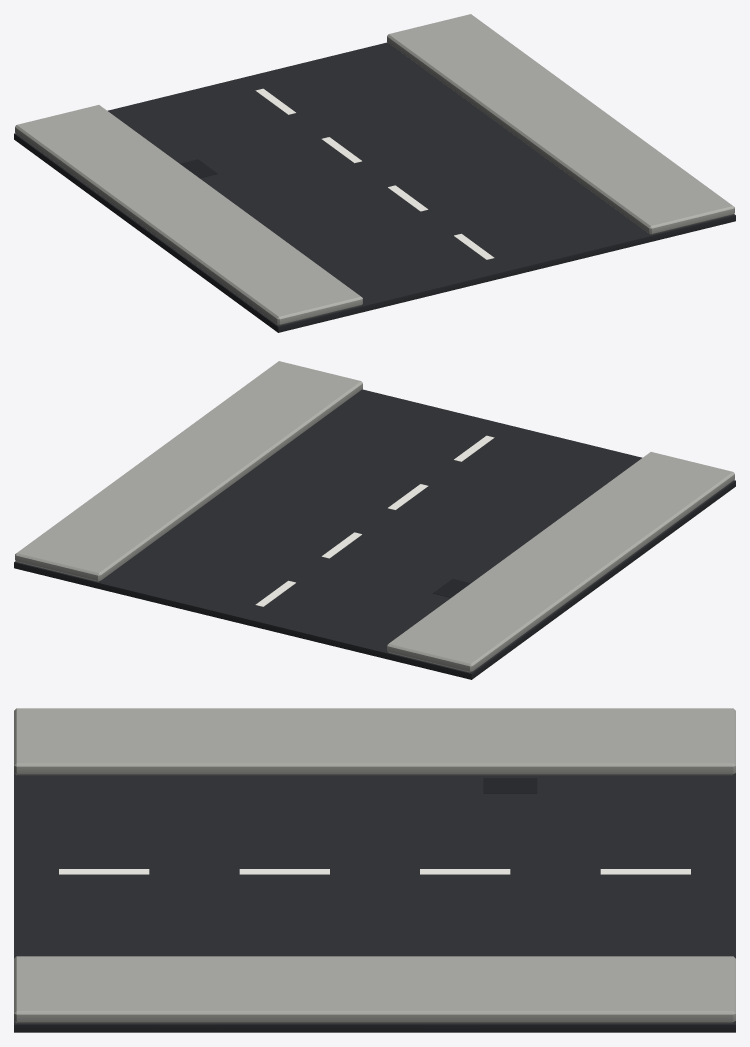
Rendered from road_straight_01.glb.
The picture shows the model from 3 angles, top to bottom: view 1: azimuth 30°, elevation 25°; view 2: azimuth 150°, elevation 25°; view 3: azimuth 270°, elevation 25°; orthographic projection. The views are drawn at different scales.
Parts seen in each view (by area): view 1: road_straight_01_LOD0; view 2: road_straight_01_LOD0; view 3: road_straight_01_LOD0.
Boxes of the visible parts, x1,y1,x2,y2 form: road_straight_01_LOD0: (14,14,735,332); road_straight_01_LOD0: (14,361,735,679); road_straight_01_LOD0: (14,708,735,1032).
Size of what is drawn, in the model's own units: 8 by 0.25 by 8.
1 material, 1 textured.
